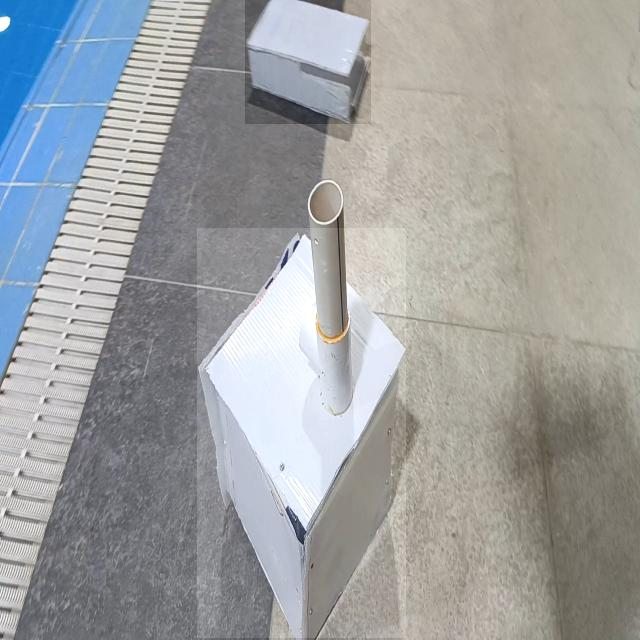Cube: (197, 228, 406, 638)
Cuboid: (245, 0, 371, 124)
